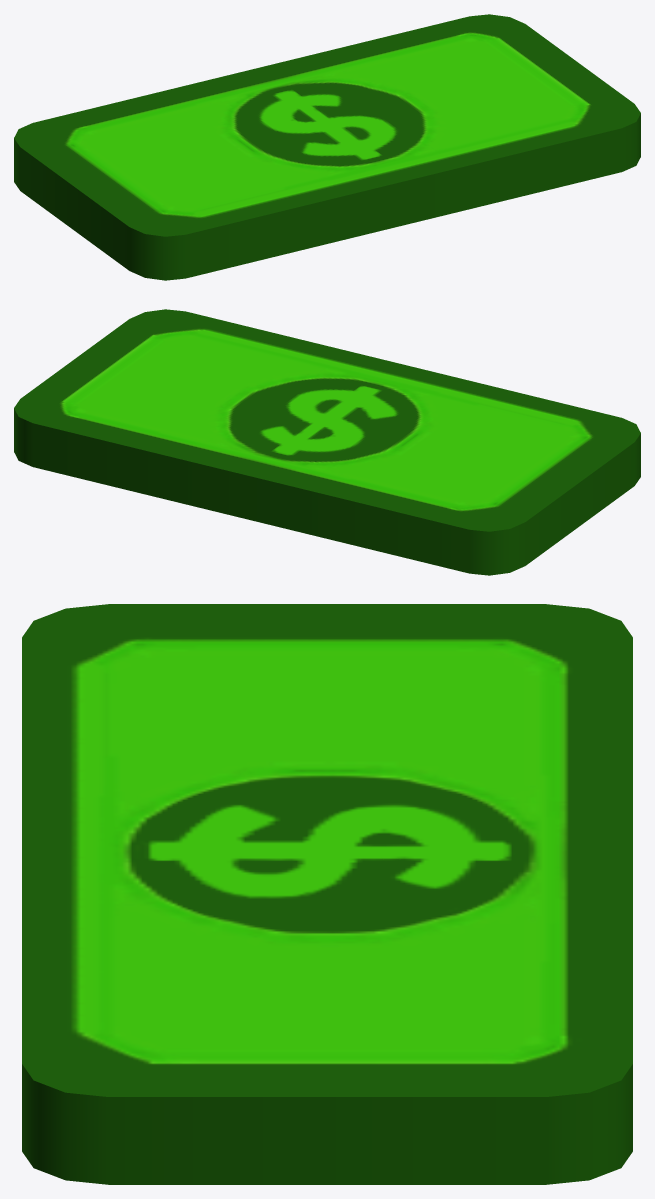
Rendered from Dollar.fbx.
3 views of the same model, one above another, from view 1: azimuth 30°, elevation 25°; view 2: azimuth 150°, elevation 25°; view 3: azimuth 270°, elevation 25° (orthographic). The views are drawn at different scales.
Visible parts, largest first — view 1: Dollar; view 2: Dollar; view 3: Dollar.
Boxes of the visible parts, x1=… form: Dollar: x1=14, y1=14, x2=640, y2=280; Dollar: x1=14, y1=309, x2=640, y2=575; Dollar: x1=22, y1=604, x2=632, y2=1184.
Size of the model in its own units: 163 by 13.54 by 85.5.
1 material, 1 textured.
